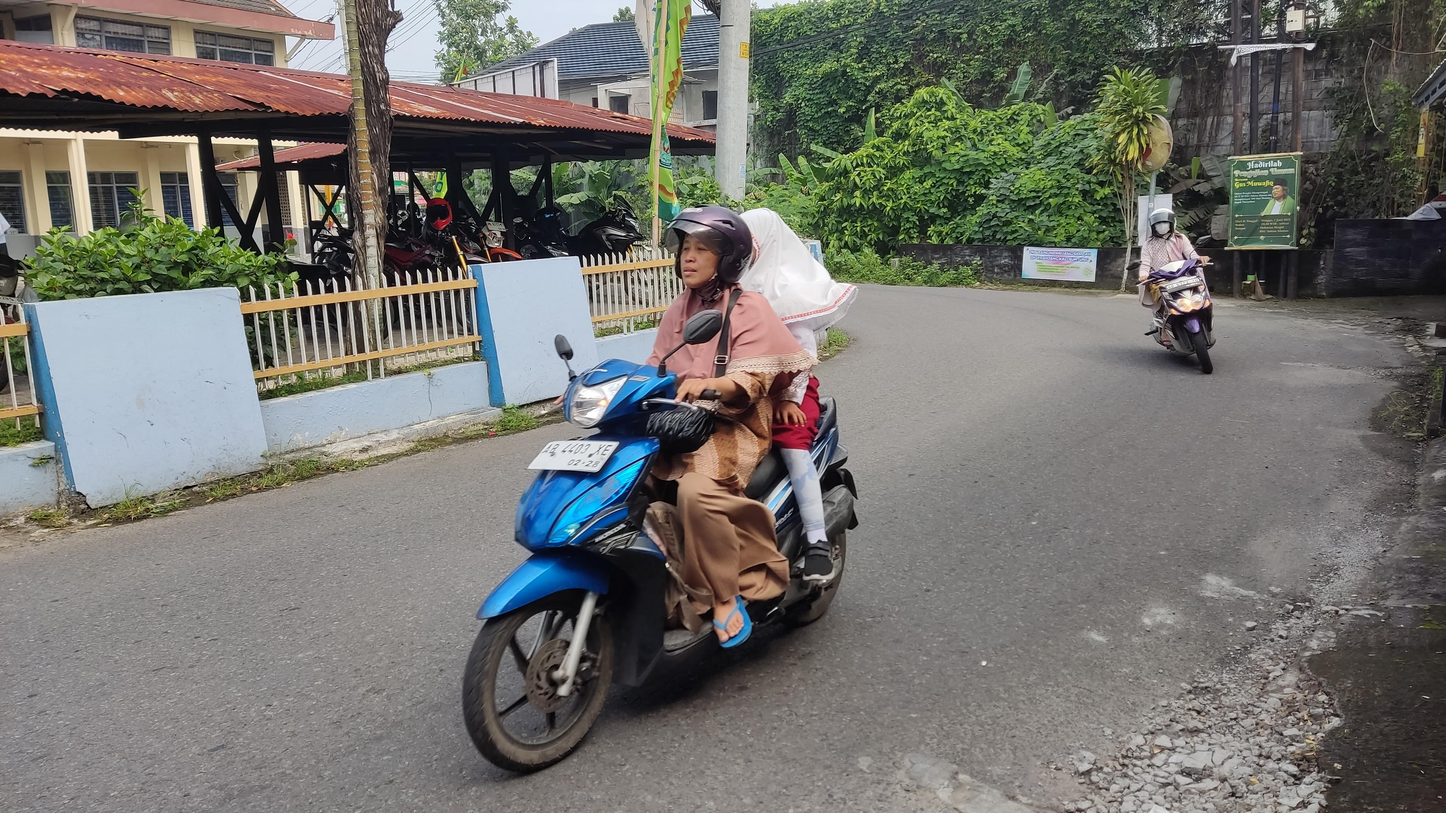helm: (662, 204, 753, 291), (1148, 209, 1178, 241)
nohelm: (735, 206, 790, 269)
riding: (460, 203, 862, 776), (1125, 208, 1220, 377)
